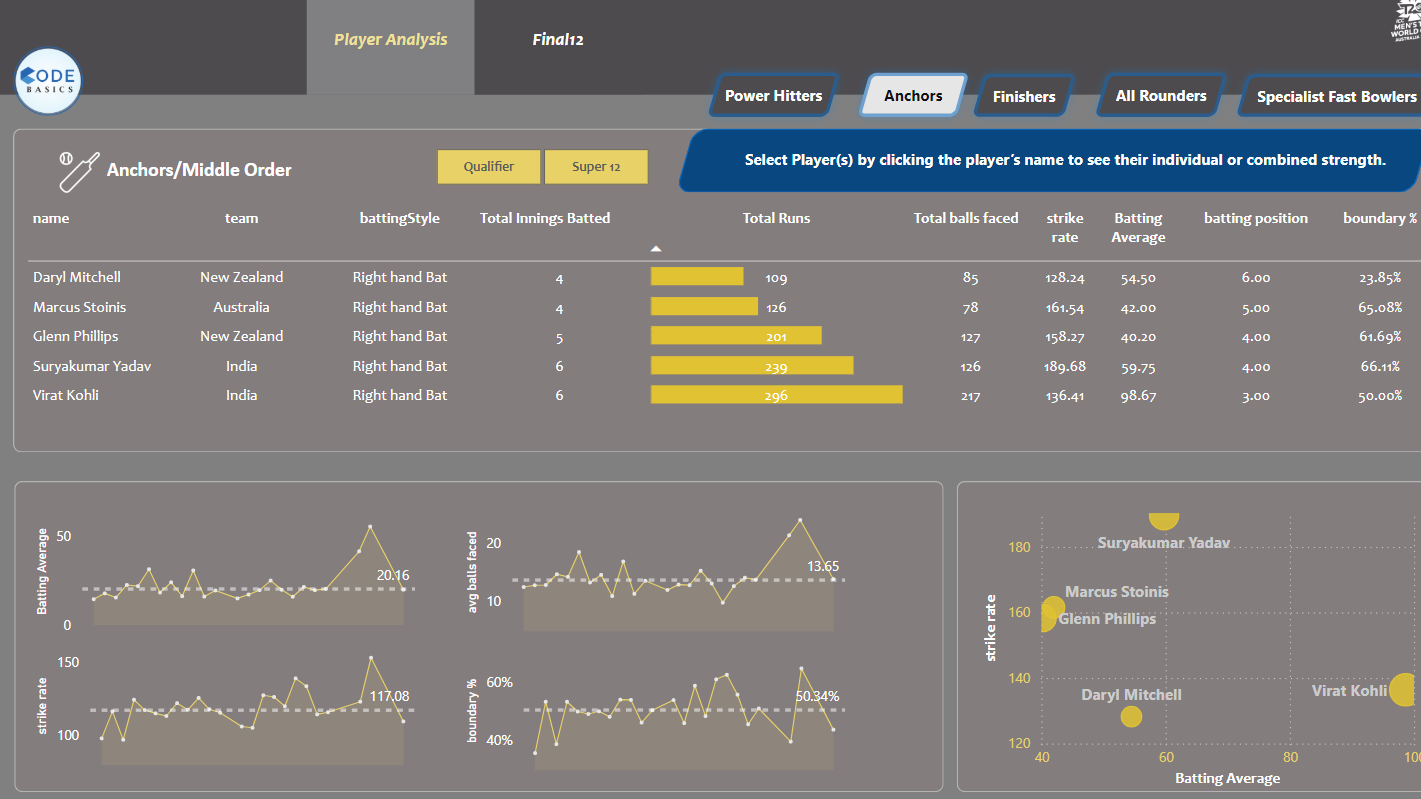

The page's visual inventory and layout, read from the dashboard file:
{"tool":"powerbi","page":{"name":"Anchors / Middle Order","canvas":[1280,720],"ordinal":1},"visuals":[{"type":"shape","box":[843.8,440,431.2,273.8],"z":0},{"type":"shape","box":[13.3,129.7,1257,284.8],"z":1000},{"type":"tableEx","fields":{"Values":["dm_players.name","dm_players.team","dm_players.battingStyle","key measures.Total Innings Batted","key measures.Total Runs","key measures.Total balls faced","key measures.strike rate","key measures.Batting Average","key measures.batting position","key measures.boundary %"]},"box":[20,183.8,1243.8,228.8],"z":2000},{"type":"shape","box":[0,0,1280,100.2],"z":3000},{"type":"slicer","fields":{"Values":["dm_match_summary.stage"]},"box":[359.1,140.5,236.9,45.2],"z":4000},{"type":"shape","box":[595.7,129.4,665.2,56.3],"z":5000},{"type":"card","fields":{"Values":["key measures.Batting Average"]},"box":[832.2,118.2,94.7,64.7],"z":6000},{"type":"card","fields":{"Values":["key measures.boundary %"]},"box":[936.5,118.2,95.9,64.7],"z":7000},{"type":"card","fields":{"Values":["key measures.strike rate"]},"box":[1042,118.2,94.7,65.9],"z":8000},{"type":"card","fields":{"Values":["key measures.avg balls faced"]},"box":[1142.7,118.2,94.7,64.7],"z":9000},{"type":"shape","box":[629.2,140.2,202.5,36],"z":10000},{"type":"actionButton","box":[615.6,72.1,133.1,55],"z":11000},{"type":"actionButton","box":[747.5,72.1,114.8,55],"z":12000},{"type":"actionButton","box":[848.9,73.3,107.5,53.7],"z":13000},{"type":"actionButton","box":[956.3,72.1,133.1,55],"z":14000},{"type":"actionButton","box":[1080.9,73.3,194.2,53.7],"z":15000},{"type":"shape","box":[13.8,440,817.5,273.8],"z":16000},{"type":"areaChart","fields":{"Y":["key measures.Batting Average"],"Category":["dm_match_summary.matchDate.Variation.Date Hierarchy.Year","dm_match_summary.matchDate.Variation.Date Hierarchy.Quarter","dm_match_summary.matchDate.Variation.Date Hierarchy.Month","dm_match_summary.matchDate.Variation.Date Hierarchy.Day"]},"box":[28.1,458,343.2,122.1],"z":17000},{"type":"areaChart","fields":{"Y":["key measures.avg balls faced"],"Category":["dm_match_summary.matchDate.Variation.Date Hierarchy.Year","dm_match_summary.matchDate.Variation.Date Hierarchy.Quarter","dm_match_summary.matchDate.Variation.Date Hierarchy.Month","dm_match_summary.matchDate.Variation.Date Hierarchy.Day"]},"box":[406.7,455.6,343.2,122.1],"z":18000},{"type":"areaChart","fields":{"Y":["key measures.strike rate"],"Category":["dm_match_summary.matchDate.Variation.Date Hierarchy.Year","dm_match_summary.matchDate.Variation.Date Hierarchy.Quarter","dm_match_summary.matchDate.Variation.Date Hierarchy.Month","dm_match_summary.matchDate.Variation.Date Hierarchy.Day"]},"box":[28.1,572.8,343.2,122.1],"z":19000},{"type":"areaChart","fields":{"Y":["key measures.boundary %"],"Category":["dm_match_summary.matchDate.Variation.Date Hierarchy.Year","dm_match_summary.matchDate.Variation.Date Hierarchy.Quarter","dm_match_summary.matchDate.Variation.Date Hierarchy.Month","dm_match_summary.matchDate.Variation.Date Hierarchy.Day"]},"box":[406.7,577.7,343.2,122.1],"z":20000},{"type":"actionButton","box":[271.1,0,147.8,100.2],"z":21000},{"type":"actionButton","box":[418.9,0,147.8,100.2],"z":22000},{"type":"shape","box":[72.1,145.3,208.9,40.3],"z":23000},{"type":"shape","box":[656.2,136.2,565,40],"z":24000},{"type":"image","box":[43.8,145,56.2,46.2],"z":25000},{"type":"scatterChart","fields":{"Category":["dim_players.name"],"X":["key measures.Batting Average"],"Y":["key measures.strike rate"],"Size":["key measures.Total Runs"]},"box":[862.5,455,398.8,258.8],"z":26000},{"type":"image","box":[6.2,50,75,77.5],"z":27000},{"type":"image","box":[1220,3,48,59],"z":28000}]}

Visuals, with their boxes in screenshot pixels (x1, y1, x2, y2), scaled from the page's 1280x720 canvas onto the 1421x799 screenshot:
shape: [937, 488, 1415, 792]
shape: [15, 144, 1410, 460]
tableEx - dm_players.name x dm_players.team: [22, 204, 1403, 458]
shape: [0, 0, 1420, 111]
slicer - dm_match_summary.stage: [399, 156, 662, 206]
shape: [661, 144, 1400, 206]
card - key measures.Batting Average: [924, 131, 1029, 203]
card - key measures.boundary %: [1040, 131, 1146, 203]
card - key measures.strike rate: [1157, 131, 1262, 204]
card - key measures.avg balls faced: [1269, 131, 1374, 203]
shape: [699, 156, 923, 196]
actionButton: [683, 80, 831, 141]
actionButton: [830, 80, 957, 141]
actionButton: [942, 81, 1062, 141]
actionButton: [1062, 80, 1209, 141]
actionButton: [1200, 81, 1416, 141]
shape: [15, 488, 923, 792]
areaChart - key measures.Batting Average x dm_match_summary.matchDate.Variation.Date Hierarchy.Year: [31, 508, 412, 644]
areaChart - key measures.avg balls faced x dm_match_summary.matchDate.Variation.Date Hierarchy.Year: [452, 506, 833, 641]
areaChart - key measures.strike rate x dm_match_summary.matchDate.Variation.Date Hierarchy.Year: [31, 636, 412, 771]
areaChart - key measures.boundary % x dm_match_summary.matchDate.Variation.Date Hierarchy.Year: [452, 641, 833, 777]
actionButton: [301, 0, 465, 111]
actionButton: [465, 0, 629, 111]
shape: [80, 161, 312, 206]
shape: [728, 151, 1356, 196]
image: [49, 161, 111, 212]
scatterChart - dim_players.name x key measures.Batting Average: [958, 505, 1400, 792]
image: [7, 55, 90, 141]
image: [1354, 3, 1408, 69]
